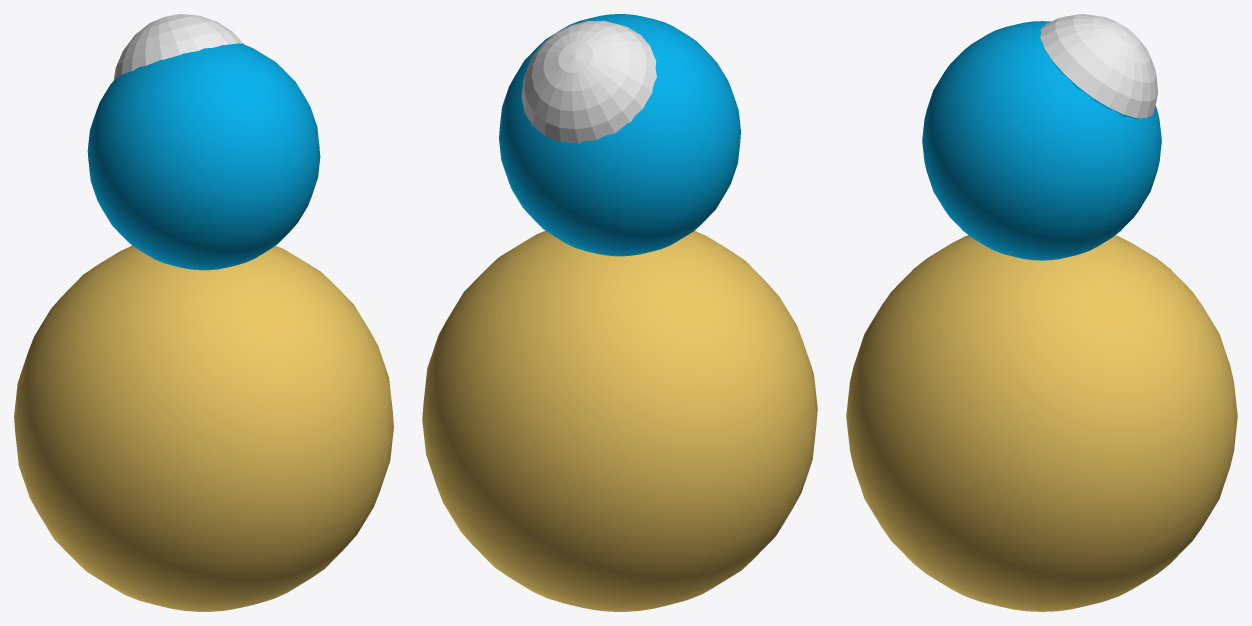
The model's file is cika 3.fbx.
3 renders of one model, left to right at view 1: azimuth 30°, elevation 25°; view 2: azimuth 150°, elevation 25°; view 3: azimuth 270°, elevation 25°, orthographic. The views are drawn at different scales.
Visible parts, largest first — view 1: Sphere.010; view 2: Sphere.010; view 3: Sphere.010.
Part boxes in pixels (bbox=[...]): Sphere.010: bbox=[14, 14, 393, 611]; Sphere.010: bbox=[422, 14, 817, 611]; Sphere.010: bbox=[846, 14, 1237, 611].
Bounding box in the file's own units: 183 × 296 × 183.
